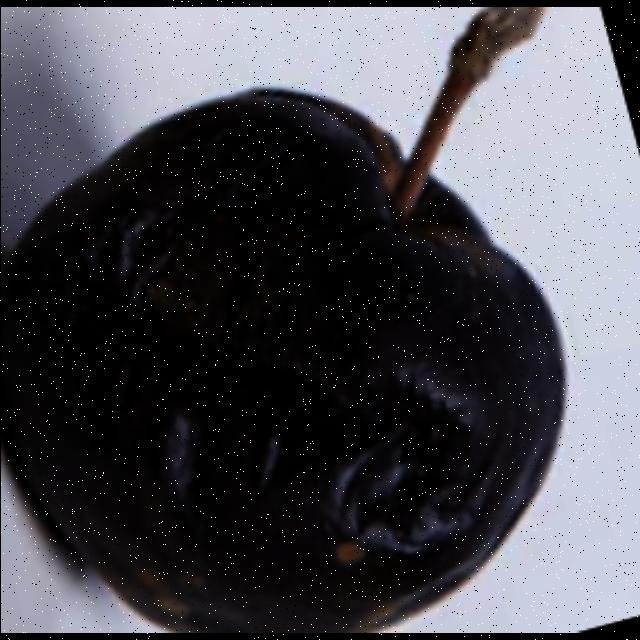Apel Tidak Segar: (0, 7, 566, 633)
